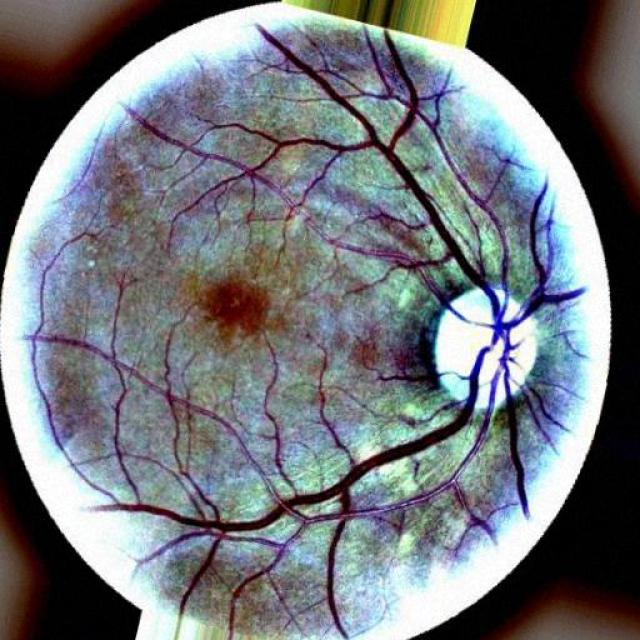Macula: (191, 262, 280, 359)
Nerves: (102, 341, 502, 626), (281, 56, 529, 347)
Optic Disk: (398, 259, 563, 437)
